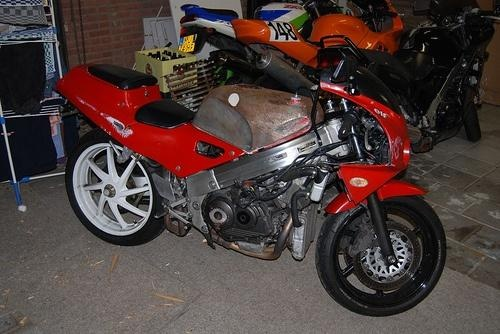motorbike: (40, 60, 454, 317), (315, 3, 495, 145), (231, 2, 408, 90), (177, 2, 317, 88)
